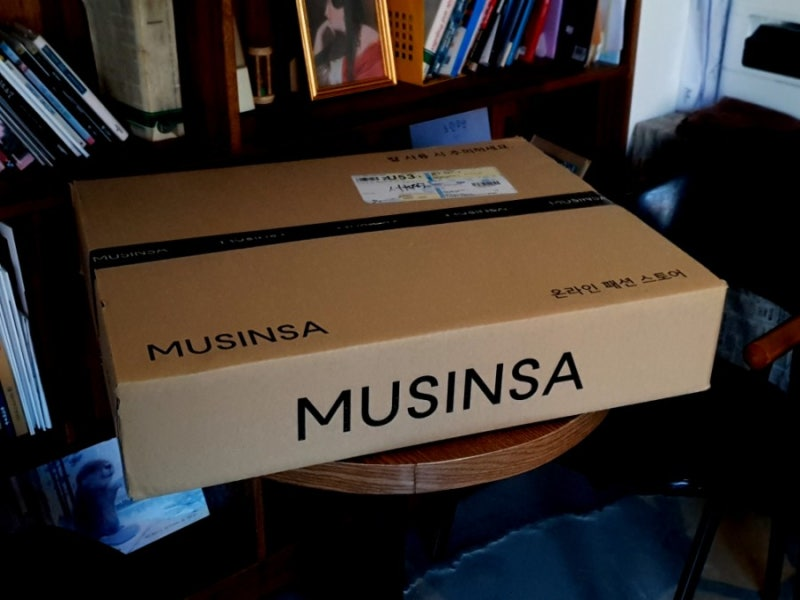undamaged: (73, 138, 726, 489)
